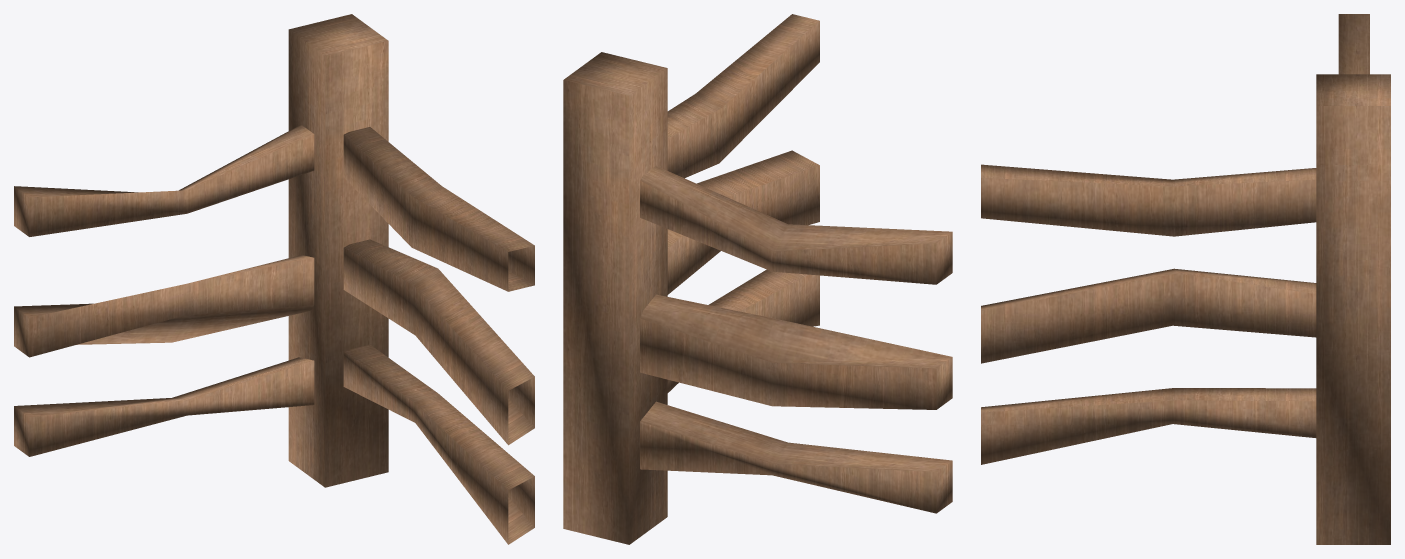
3 renders of one model, left to right at view 1: azimuth 30°, elevation 25°; view 2: azimuth 150°, elevation 25°; view 3: azimuth 270°, elevation 25°, orthographic. The views are drawn at different scales.
Parts seen in each view (by area): view 1: Cube159_Wood_02001_0; view 2: Cube159_Wood_02001_0; view 3: Cube159_Wood_02001_0.
Part boxes in pixels (x1,y1,x2,y2): Cube159_Wood_02001_0: [14, 14, 534, 544]; Cube159_Wood_02001_0: [563, 14, 952, 544]; Cube159_Wood_02001_0: [981, 14, 1390, 544].
Size of the model in its own units: 1.1 by 1.3 by 1.1.
Materials: 1 (1 with a texture image).
